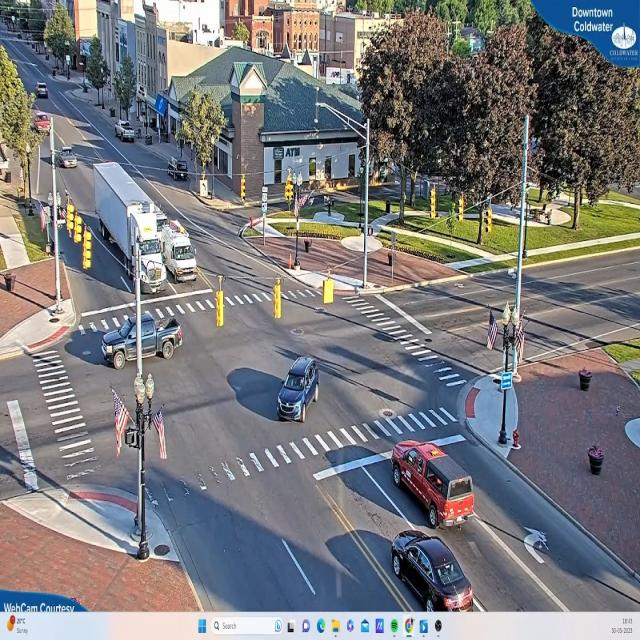car: (391, 438, 477, 530), (392, 528, 480, 610), (102, 312, 183, 368), (277, 358, 320, 420), (118, 120, 138, 143), (57, 148, 78, 169), (36, 84, 50, 98)
truck: (94, 162, 170, 292)
